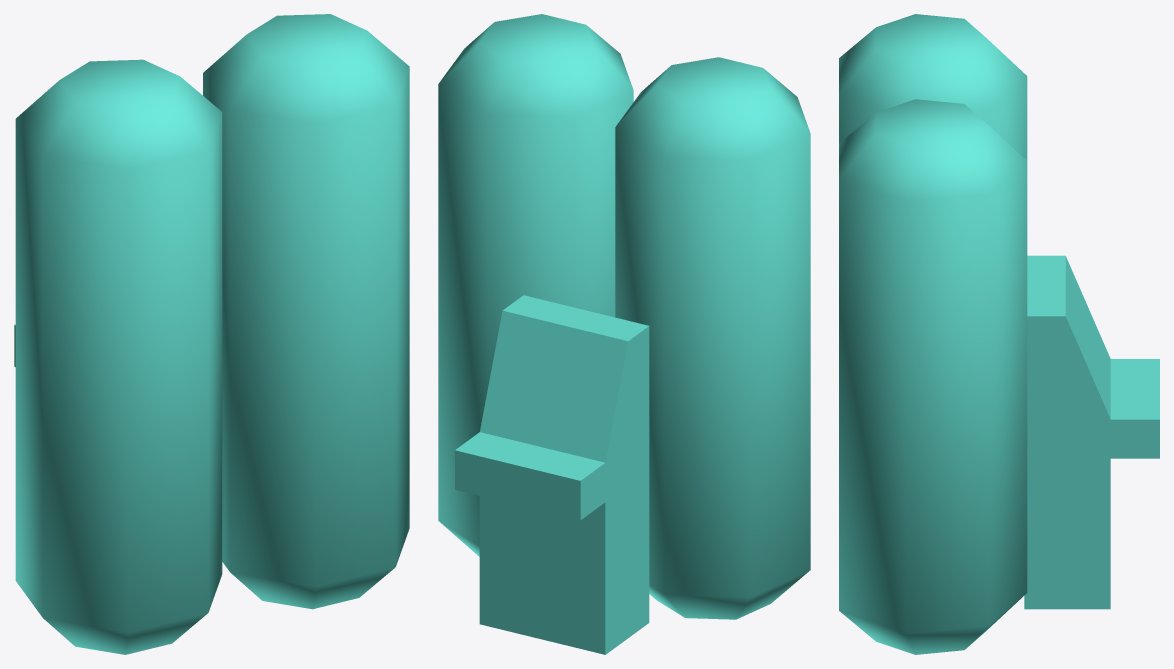
File: Explosive Tank.fbx
The picture shows the model from 3 angles, left to right: view 1: azimuth 30°, elevation 25°; view 2: azimuth 150°, elevation 25°; view 3: azimuth 270°, elevation 25°; orthographic projection. The views are drawn at different scales.
Visible parts, largest first — view 1: Explosive tank; view 2: Explosive tank; view 3: Explosive tank.
Boxes of the visible parts, x1,y1,x2,y2 form: Explosive tank: (14, 14, 409, 654); Explosive tank: (438, 14, 810, 654); Explosive tank: (839, 14, 1159, 654).
Size of the model in its own units: 70.43 by 100 by 57.21.
